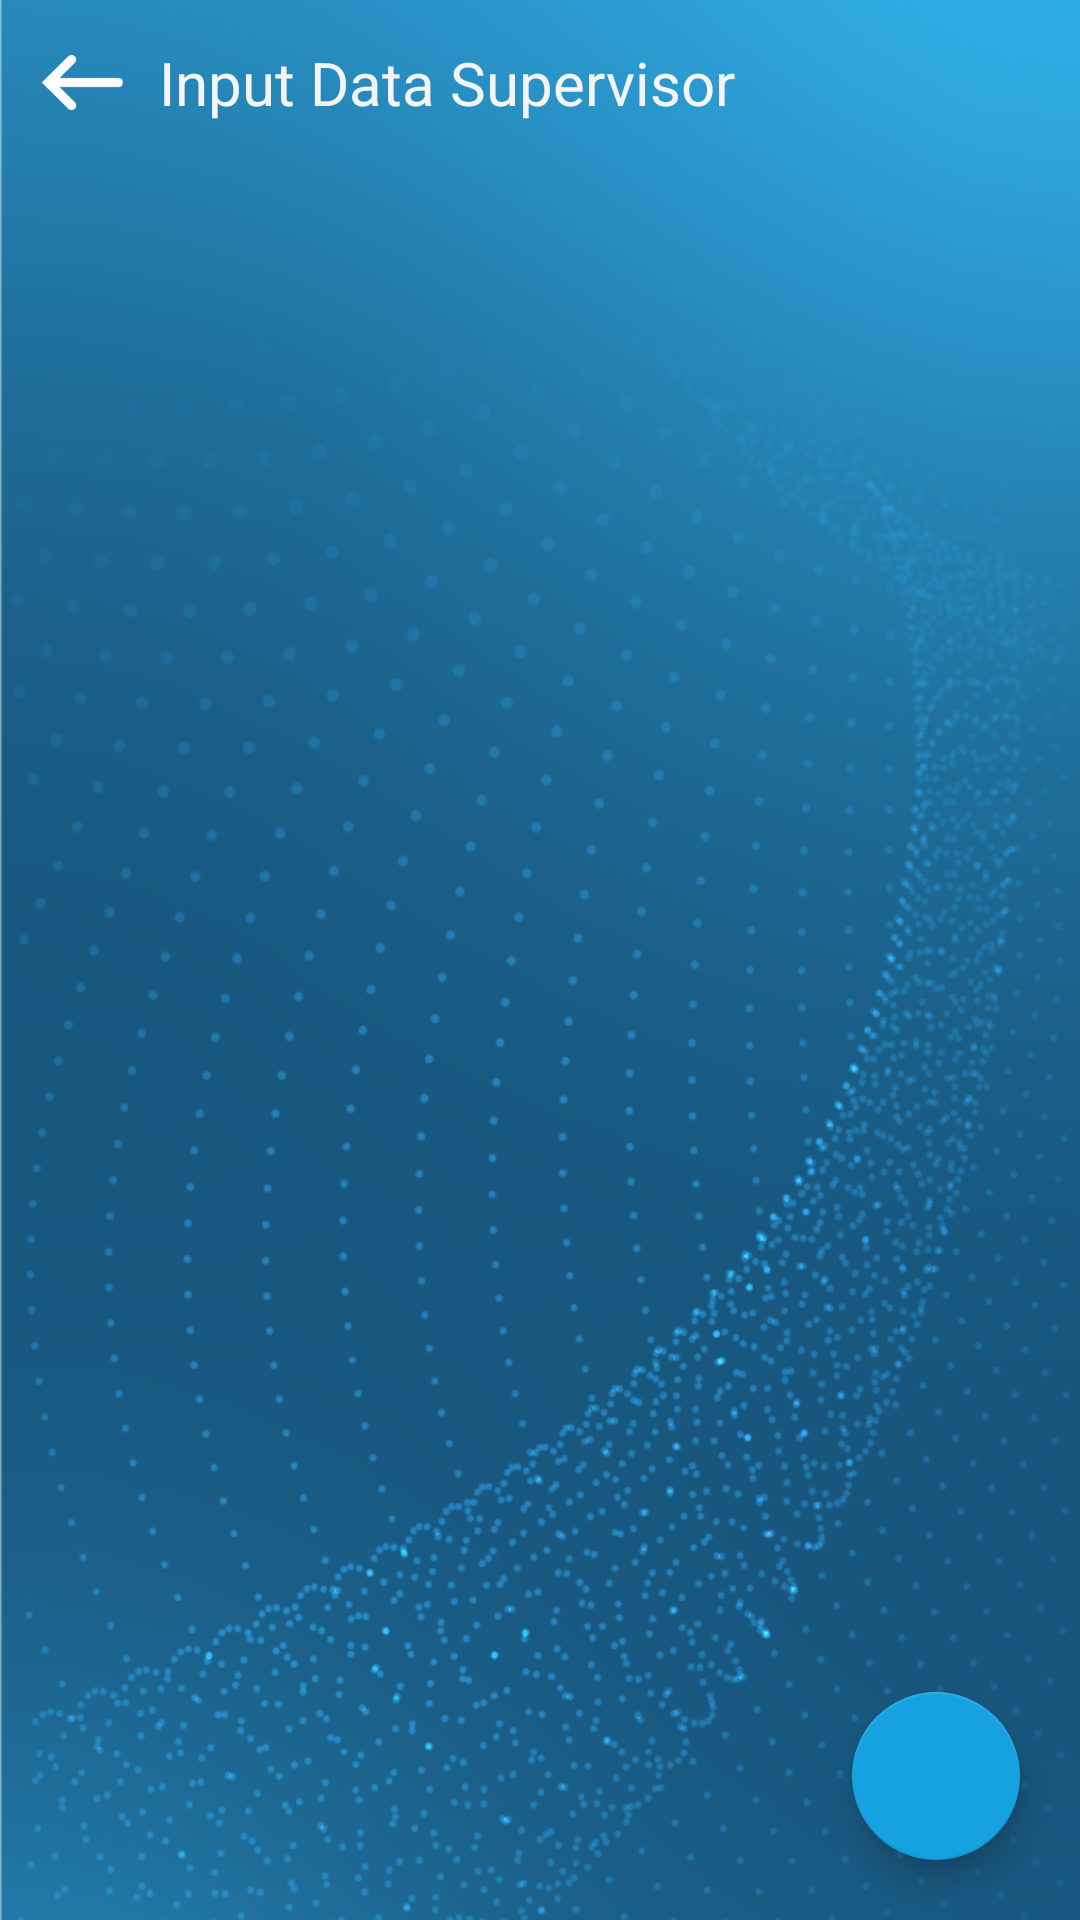

Where icons sit on this 1080px×1920px app screen, as (x1, y1, x2, y2):
back: (42, 55, 123, 110)
